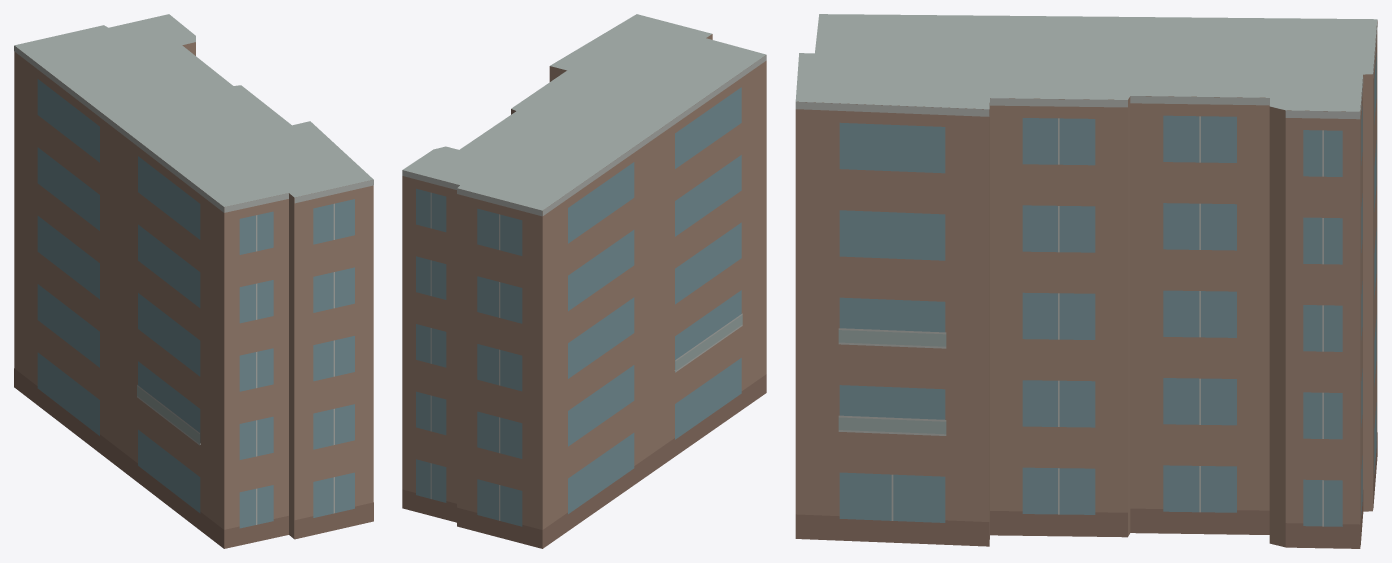
The model's file is survey-upis-32633406.glb.
3 views of the same model, side by side, from view 1: azimuth 30°, elevation 25°; view 2: azimuth 150°, elevation 25°; view 3: azimuth 270°, elevation 25° (orthographic). The views are drawn at different scales.
Visible parts, largest first — view 1: survey-upis-32633406.tmp; view 2: survey-upis-32633406.tmp; view 3: survey-upis-32633406.tmp.
Part boxes in pixels (bbox=[...]): survey-upis-32633406.tmp: bbox=[14, 14, 373, 548]; survey-upis-32633406.tmp: bbox=[402, 14, 766, 548]; survey-upis-32633406.tmp: bbox=[795, 14, 1377, 548].
Size of the model in its own units: 6.82 by 14.2 by 17.14.
